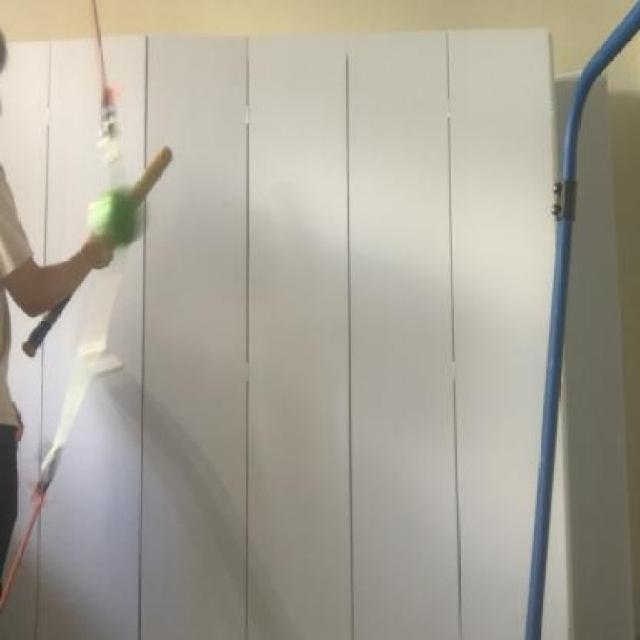baseball: (88, 178, 144, 248)
